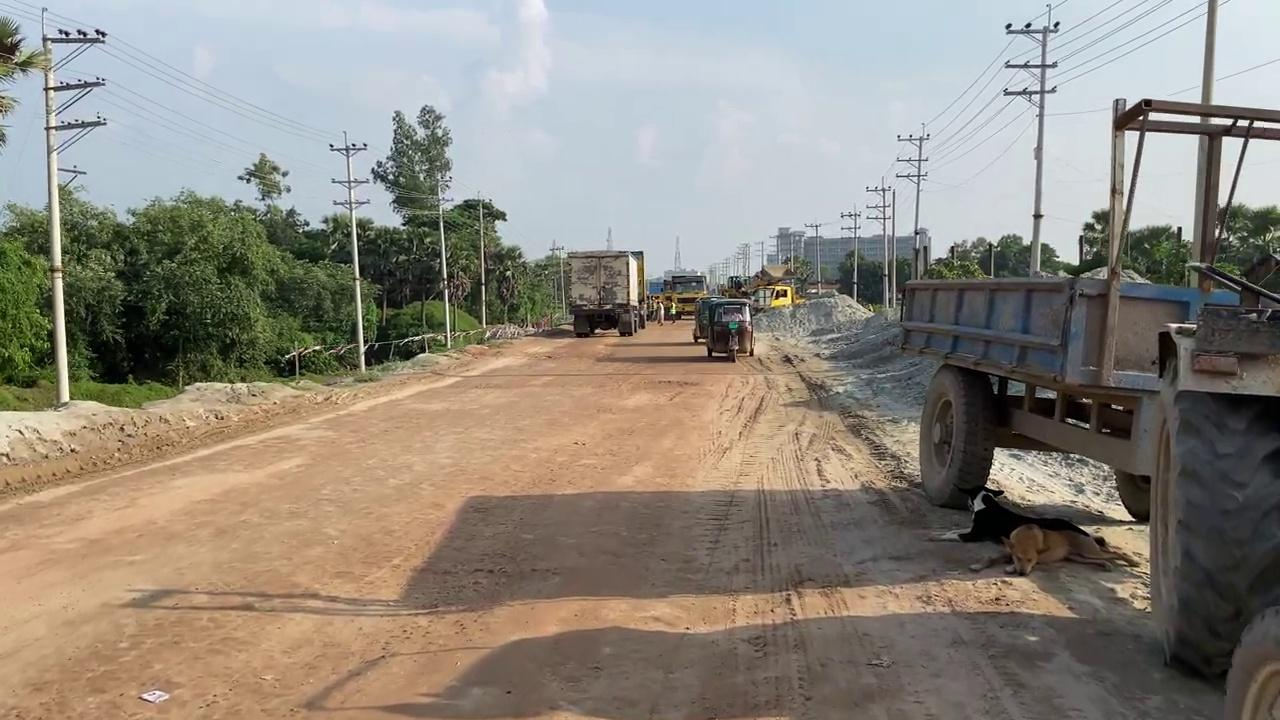Car: (693, 296, 755, 362)
Dog: (957, 488, 1138, 576)
Pole: (40, 10, 71, 405), (328, 130, 370, 373), (1189, 0, 1220, 286), (436, 174, 452, 349), (477, 191, 487, 329)
Traffic-sign: (0, 12, 49, 154)
Tree: (896, 95, 1278, 716), (566, 249, 646, 337), (661, 271, 709, 319), (748, 281, 805, 312), (718, 275, 759, 313), (718, 275, 750, 299)
